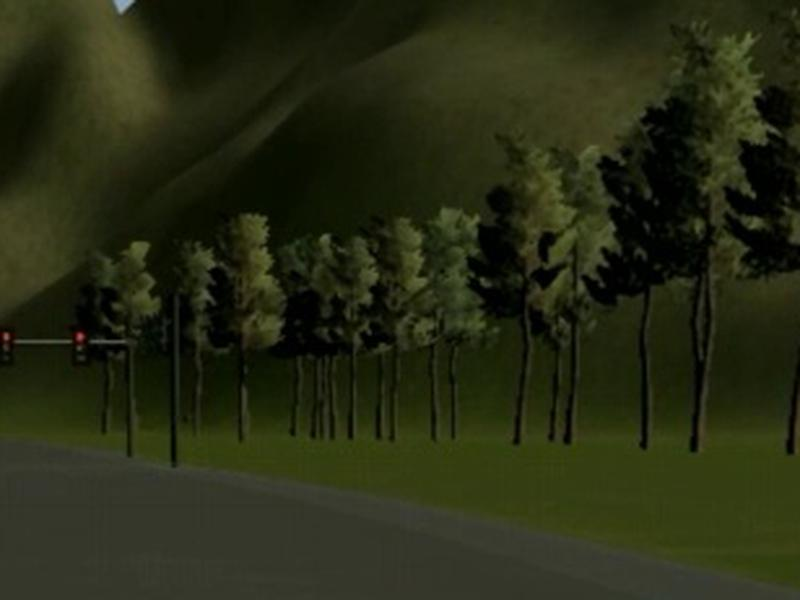Red: (70, 326, 90, 369), (1, 327, 15, 369)
